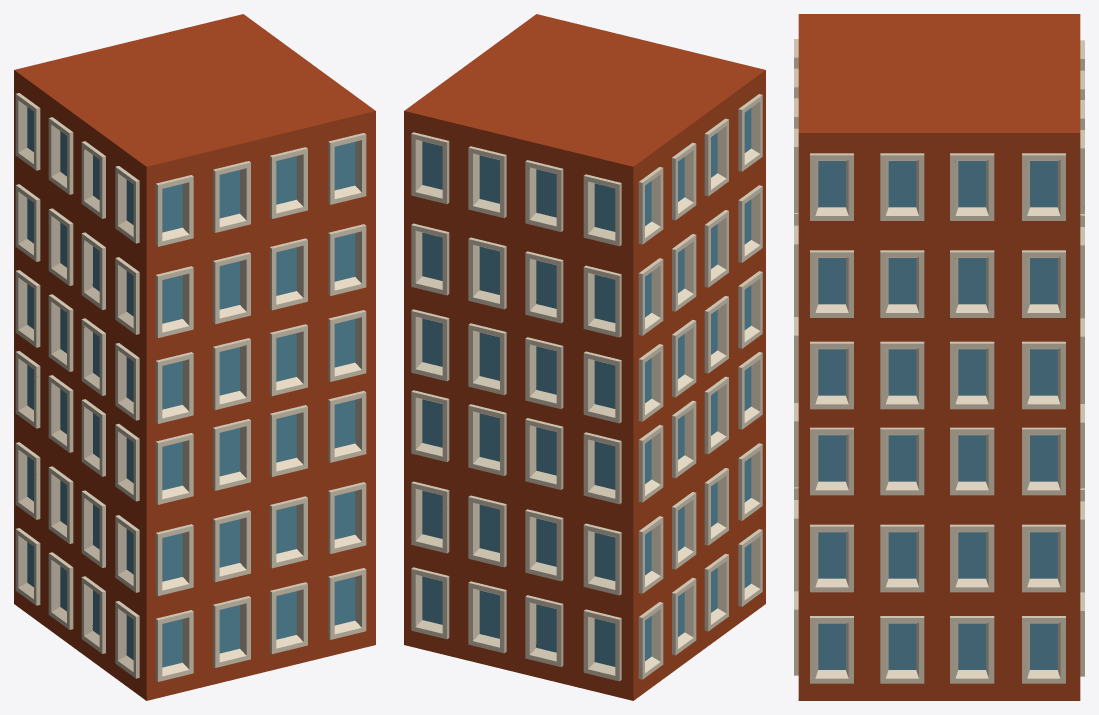
Rendered from Edificio_rojo.fbx.
3 renders of one model, left to right at view 1: azimuth 30°, elevation 25°; view 2: azimuth 150°, elevation 25°; view 3: azimuth 270°, elevation 25°, orthographic. The views are drawn at different scales.
Visible parts, largest first — view 1: 11_old building texture-seamless.002; view 2: 11_old building texture-seamless.002; view 3: 11_old building texture-seamless.002.
Part boxes in pixels (left/top/right/bottom): 11_old building texture-seamless.002: left=14, top=14, right=375, bottom=700; 11_old building texture-seamless.002: left=404, top=14, right=765, bottom=700; 11_old building texture-seamless.002: left=794, top=14, right=1084, bottom=700.
Size of the model in its own units: 1306 by 2814 by 1306.
1 material, 1 textured.
